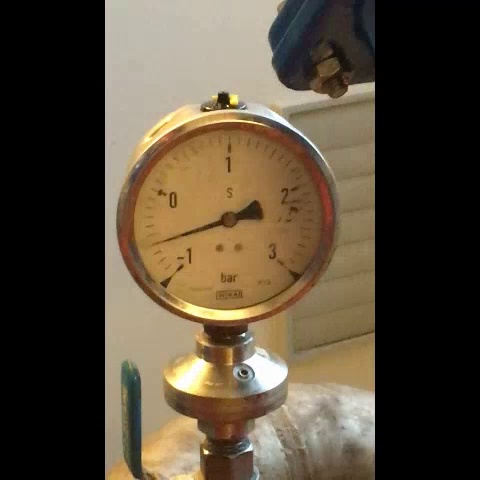Round_Meter: (127, 126, 329, 317)
